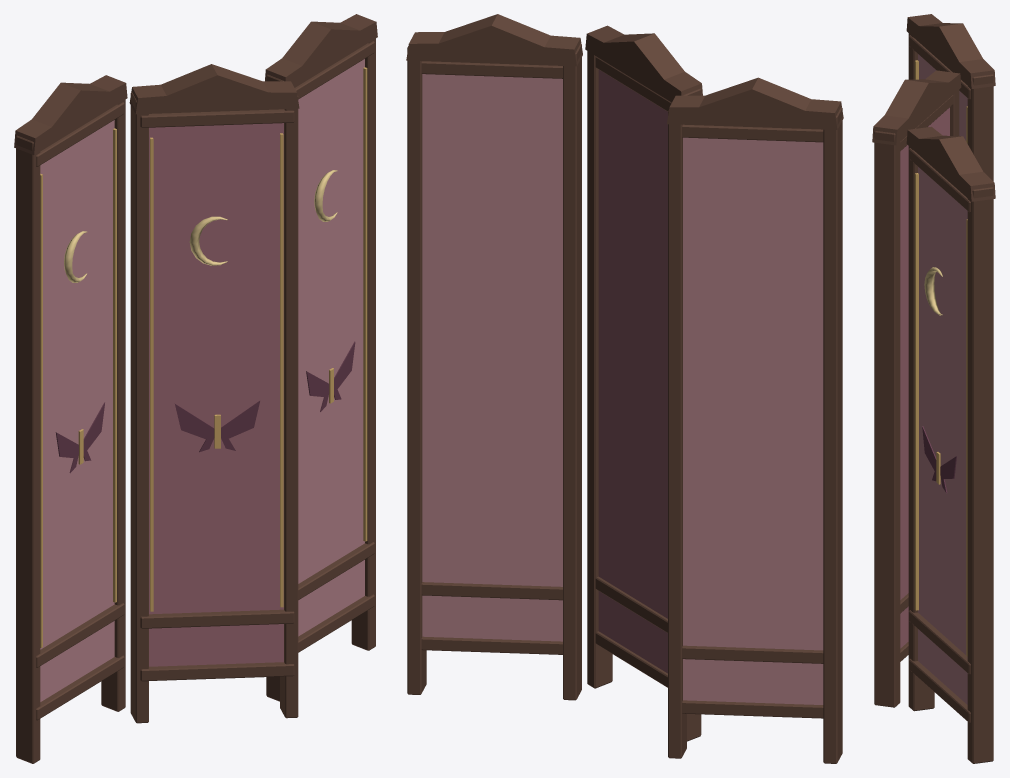
Rendered from folding_screen.glb.
3 views of the same model, side by side, from view 1: azimuth 30°, elevation 25°; view 2: azimuth 150°, elevation 25°; view 3: azimuth 270°, elevation 25° (orthographic). The views are drawn at different scales.
Visible parts, largest first — view 1: folding_screen; view 2: folding_screen; view 3: folding_screen.
Boxes of the visible parts, bbox=[...] form: folding_screen: bbox=[14, 14, 377, 763]; folding_screen: bbox=[406, 14, 843, 763]; folding_screen: bbox=[872, 14, 995, 763].
Size of the model in its own units: 1 by 1.6 by 0.3.
